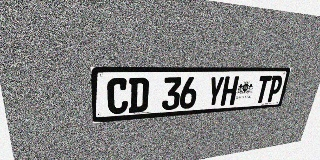3: (162, 77, 182, 110)
6: (179, 77, 199, 109)
C: (107, 78, 128, 115)
D: (128, 77, 149, 113)
H: (220, 76, 239, 106)
P: (266, 75, 284, 102)
T: (254, 76, 272, 103)
Y: (205, 76, 225, 107)
